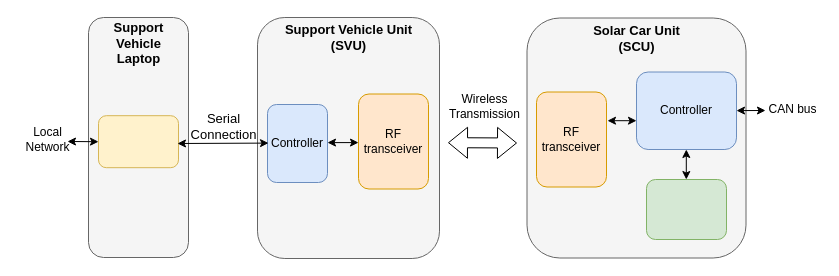
Some shapes in this 839 by 276 pixel diagram are drawn without their labels. Each missing label, with the box of its shape:
External Memory (black box): (646, 178, 726, 240)
TelemetryUI: (98, 115, 178, 168)
